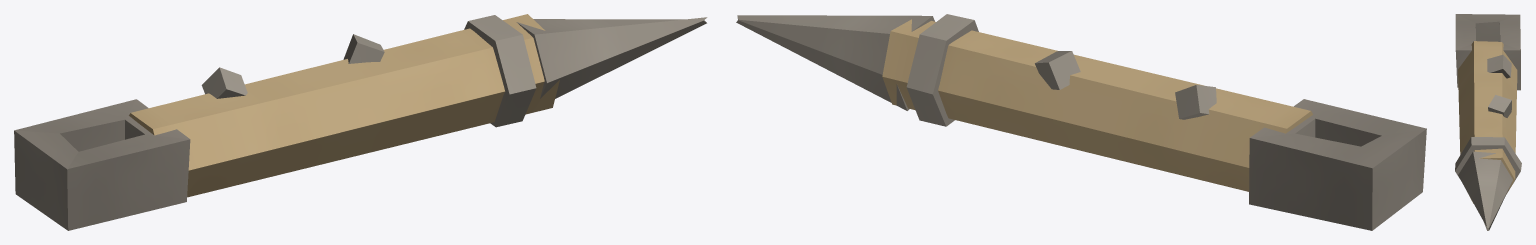
Rendered from needle_sand.glb.
3 renders of one model, left to right at view 1: azimuth 30°, elevation 25°; view 2: azimuth 150°, elevation 25°; view 3: azimuth 270°, elevation 25°, orthographic. The views are drawn at different scales.
Visible parts, largest first — view 1: NeedleSand; view 2: NeedleSand; view 3: NeedleSand.
Part boxes in pixels (x1,y1,x2,y2): NeedleSand: (14, 14, 707, 230); NeedleSand: (736, 14, 1426, 230); NeedleSand: (1455, 14, 1521, 230).
Bounding box in the file's own units: 0.3368 × 0.0494 × 0.0487.
2 materials, 2 textured.
